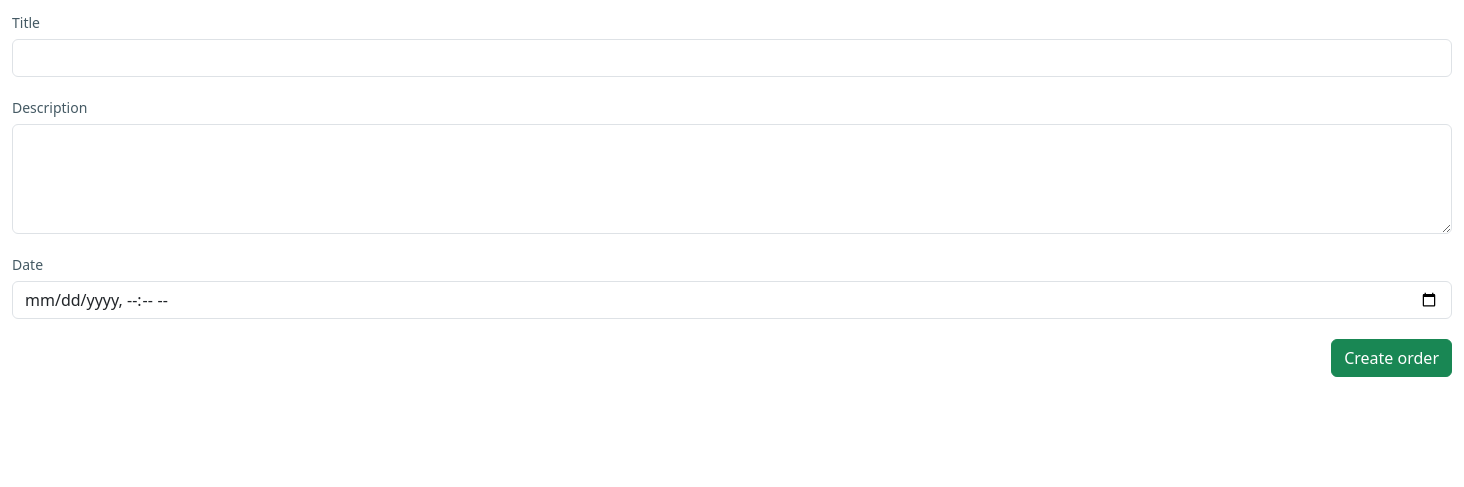
Test case: CreateOrderForm › shows validation errors for empty fields
The width and height of the screenshot is (1464, 487).
Click the button "Create order".
click(1392, 358)  # box [1331,339,1452,377]
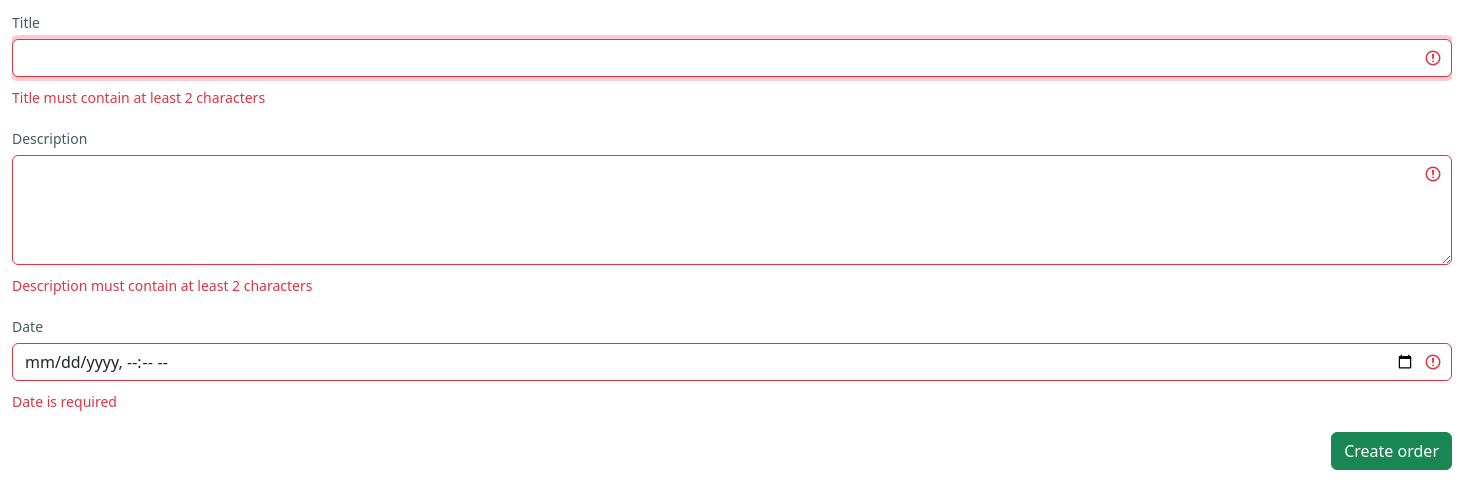
Now the text "Title must contain at least 2 characters" is shown, box [12,88,265,107]
Now the text "Description must contain at least 2 characters" is shown, box [12,276,312,295]
Now the text "Date is required" is shown, box [12,392,117,411]
